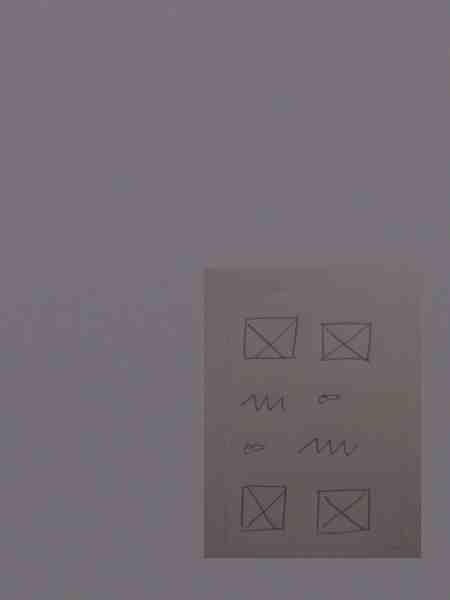image: (311, 483, 374, 537), (239, 312, 304, 363), (316, 317, 377, 367), (236, 482, 291, 536)
switch: (310, 389, 348, 409), (237, 440, 275, 459)
text: (295, 432, 365, 462), (236, 390, 291, 419)
